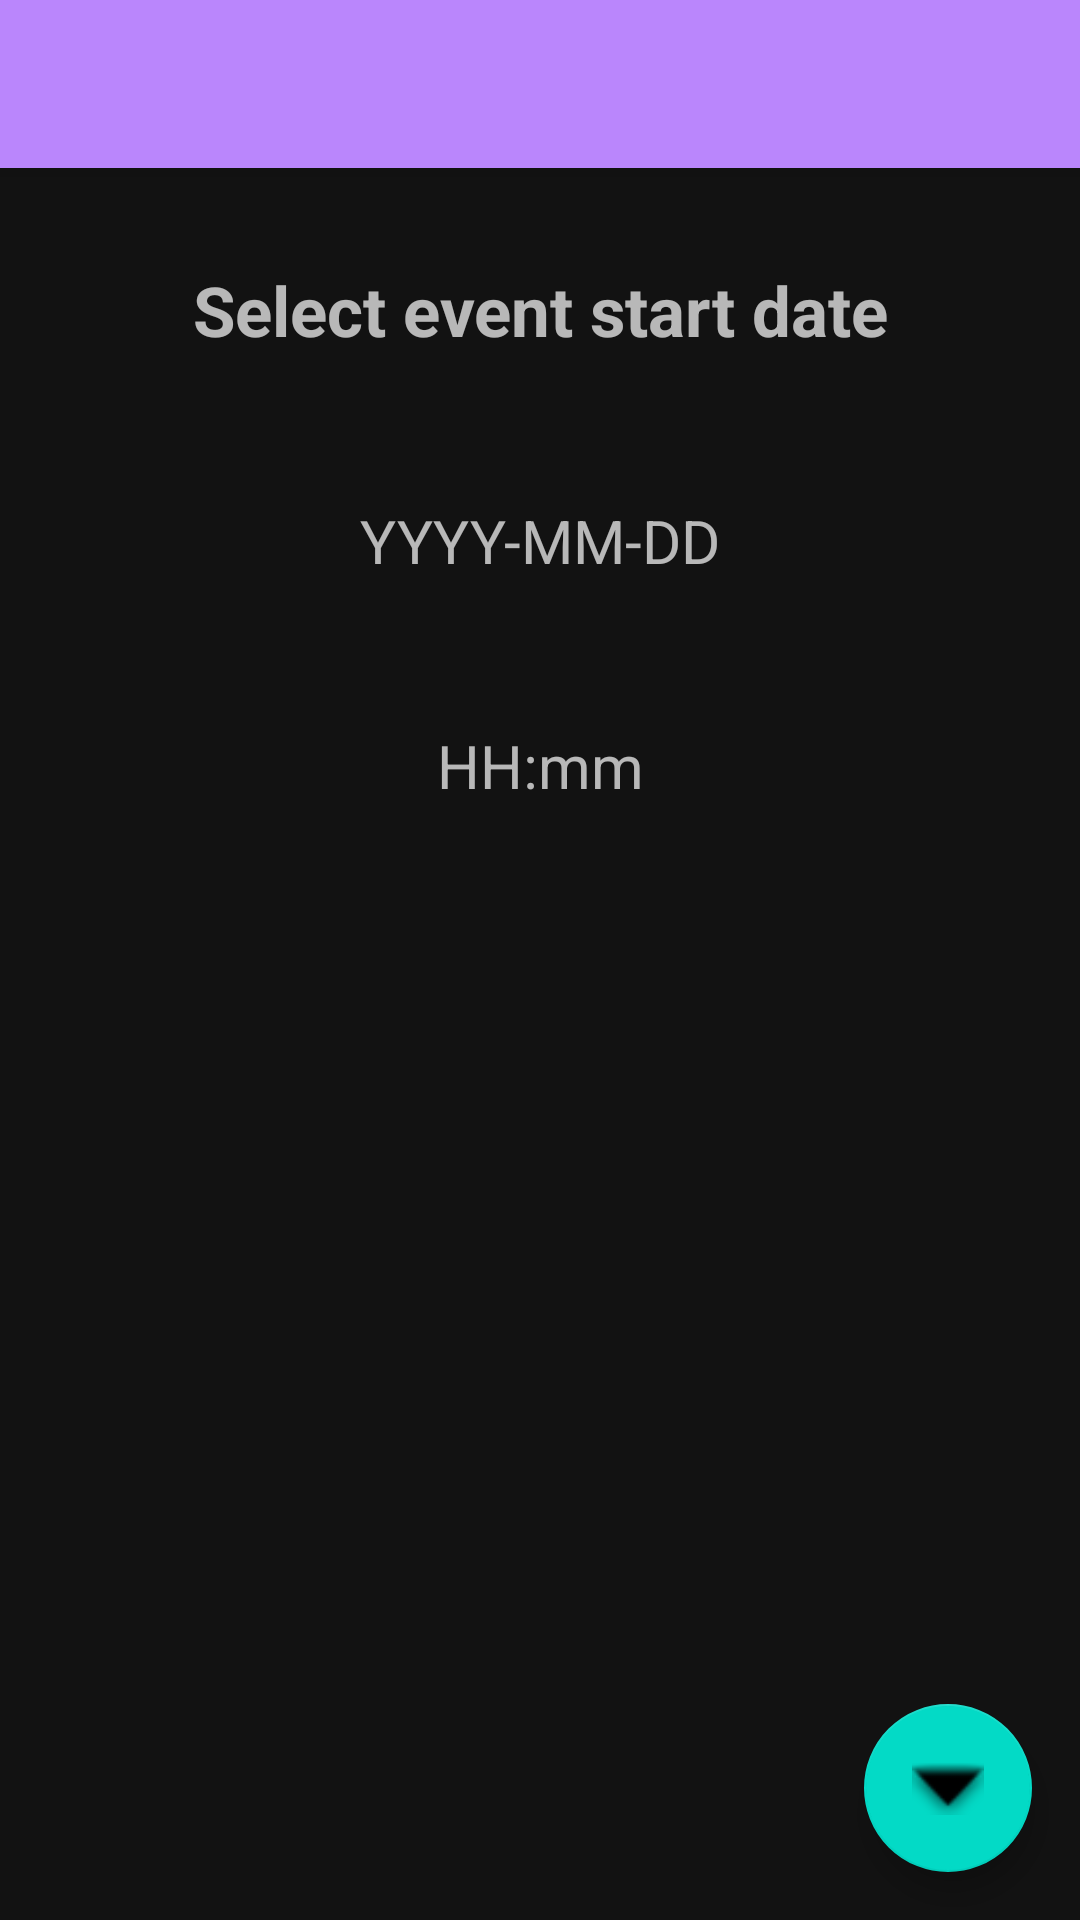

Where icons sit on this 1080px×1920px app screen, as [x1,y1,x2,y2]:
arrow down float: [864,1704,1032,1872]
